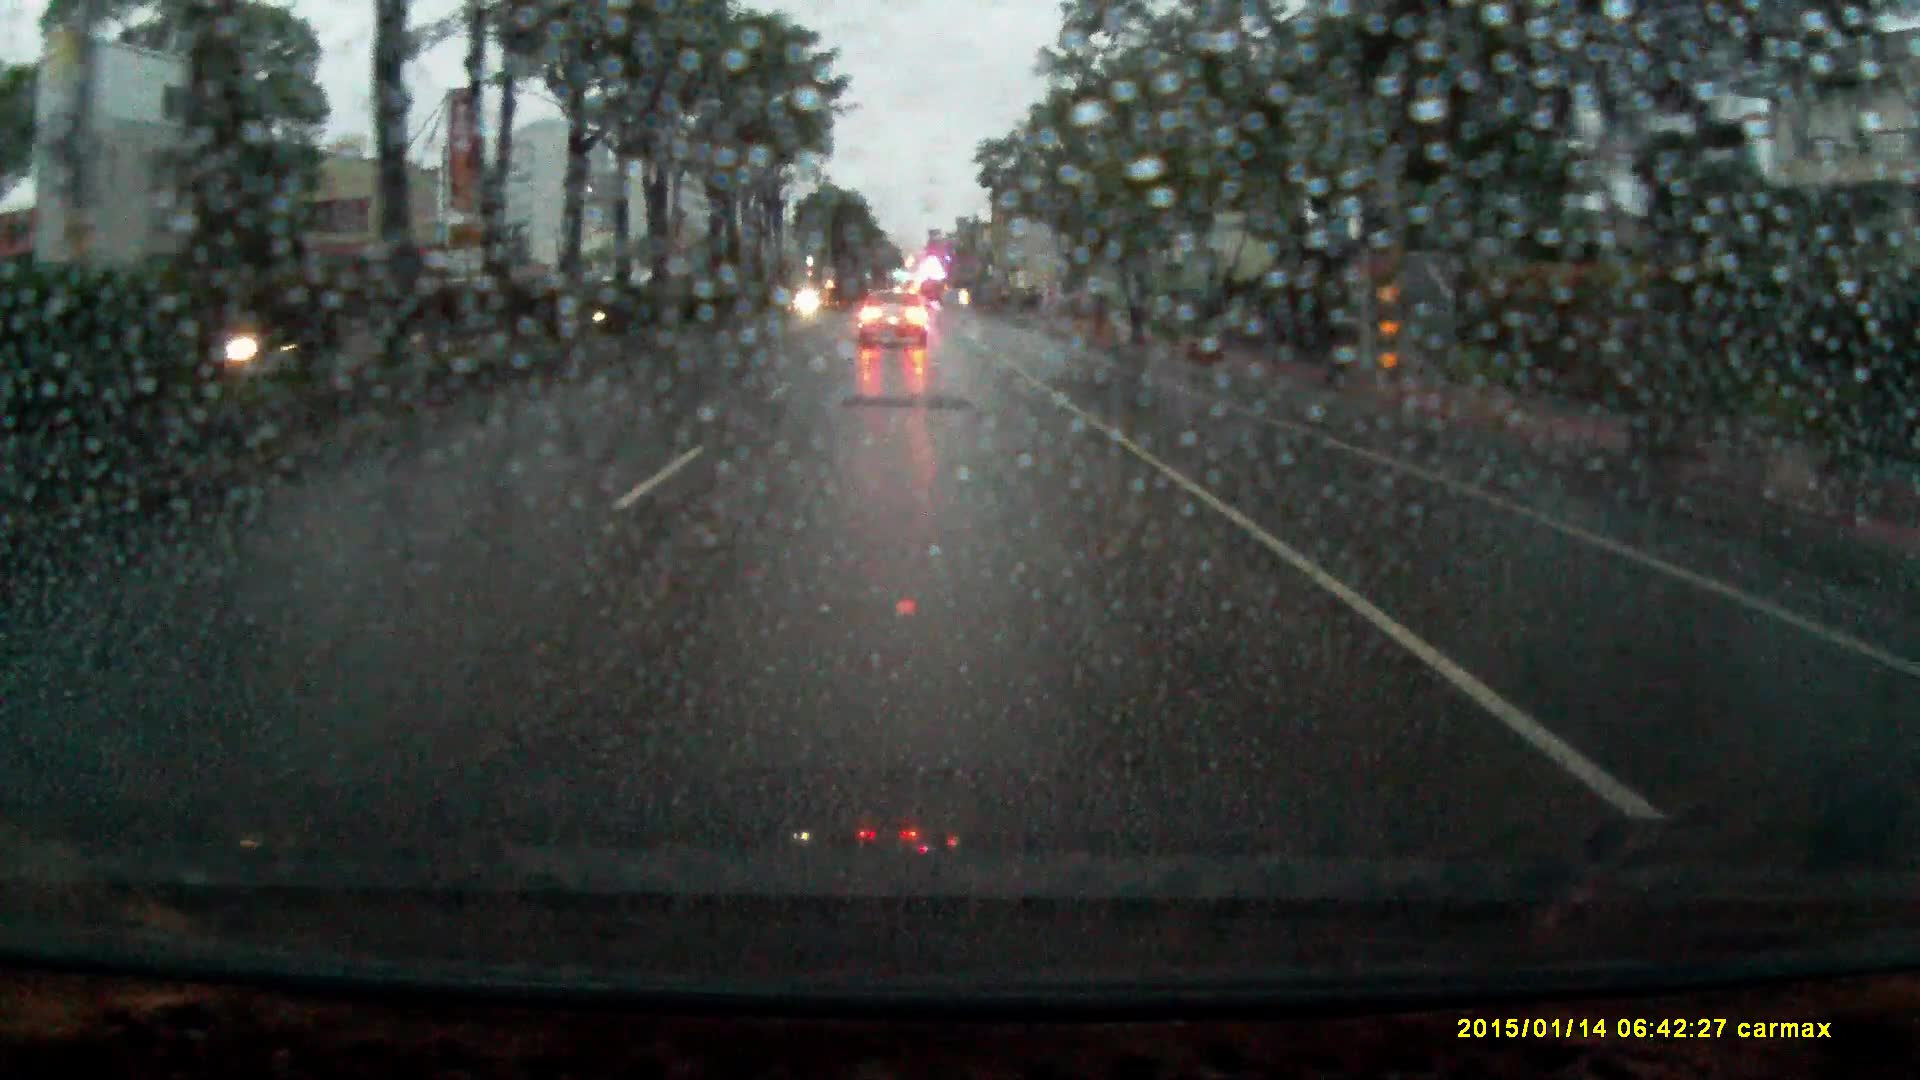vehicle: (858, 287, 928, 347)
